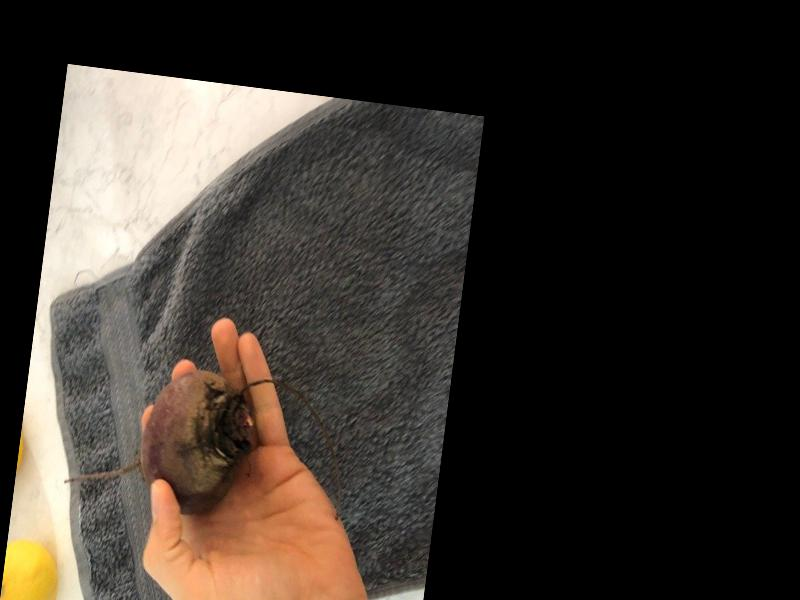Beet: (62, 357, 264, 522)
